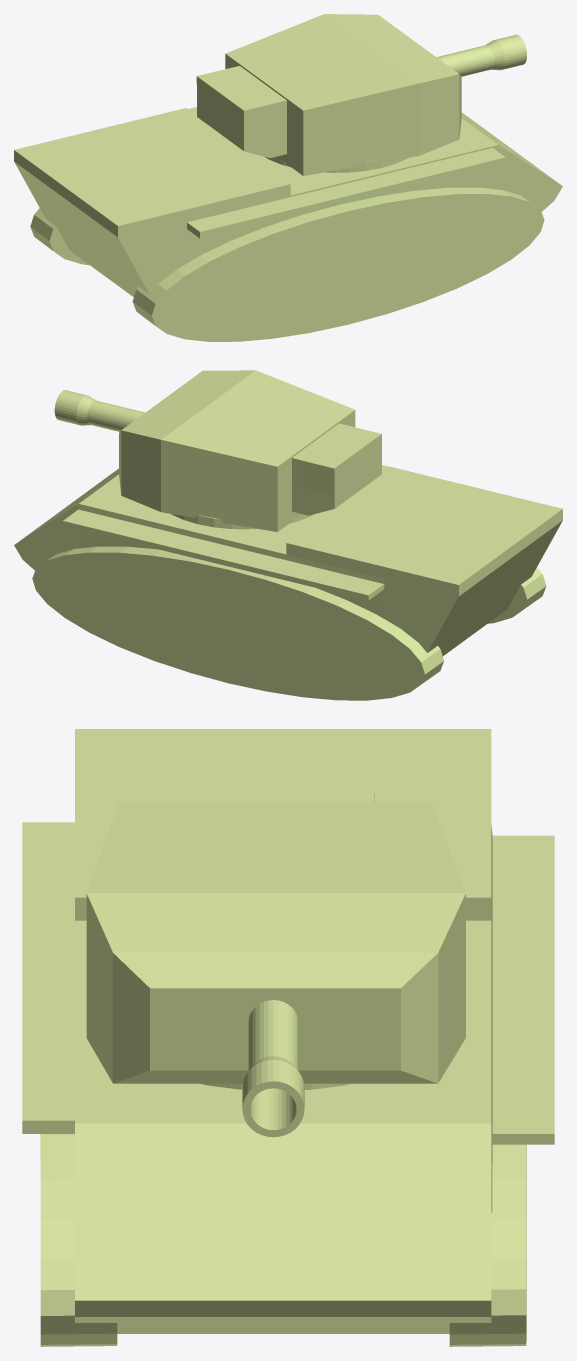
File: tenk.fbx
The picture shows the model from 3 angles, top to bottom: view 1: azimuth 30°, elevation 25°; view 2: azimuth 150°, elevation 25°; view 3: azimuth 270°, elevation 25°; orthographic projection. The views are drawn at different scales.
Visible parts, largest first — view 1: Cube; view 2: Cube; view 3: Cube.
Boxes of the visible parts, x1,y1,x2,y2 form: Cube: [14, 14, 562, 341]; Cube: [14, 370, 562, 700]; Cube: [22, 729, 554, 1346].
Bounding box in the file's own units: 756 × 341 × 386.
